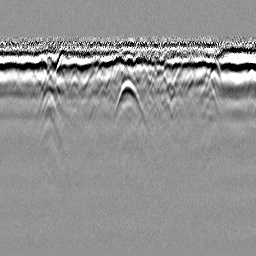cavity: (112, 79, 146, 128)
